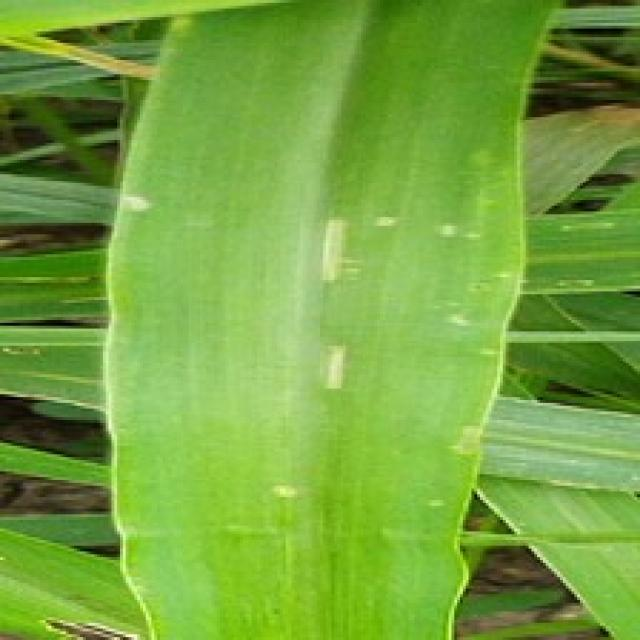Corn: (97, 0, 566, 637)
